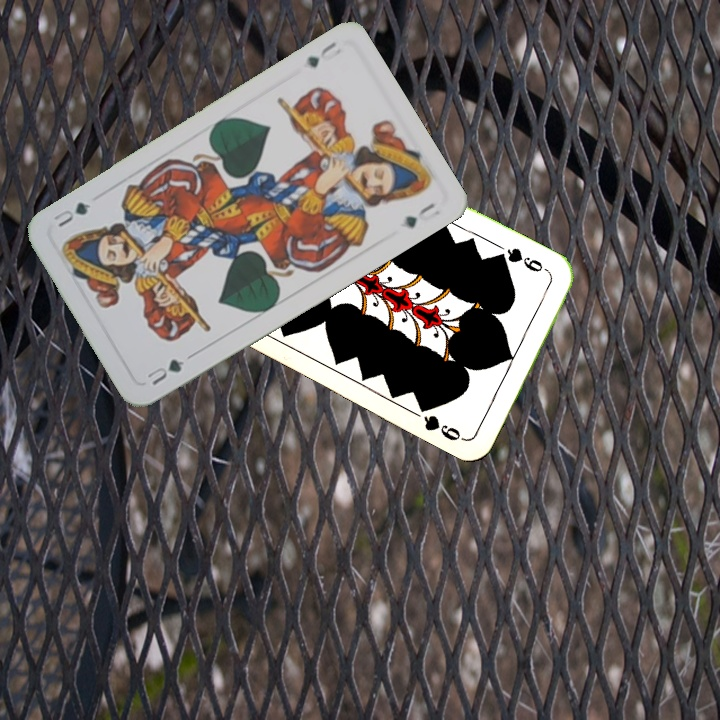G9: (497, 243, 554, 278)
GU: (143, 354, 187, 388), (303, 37, 344, 71)
